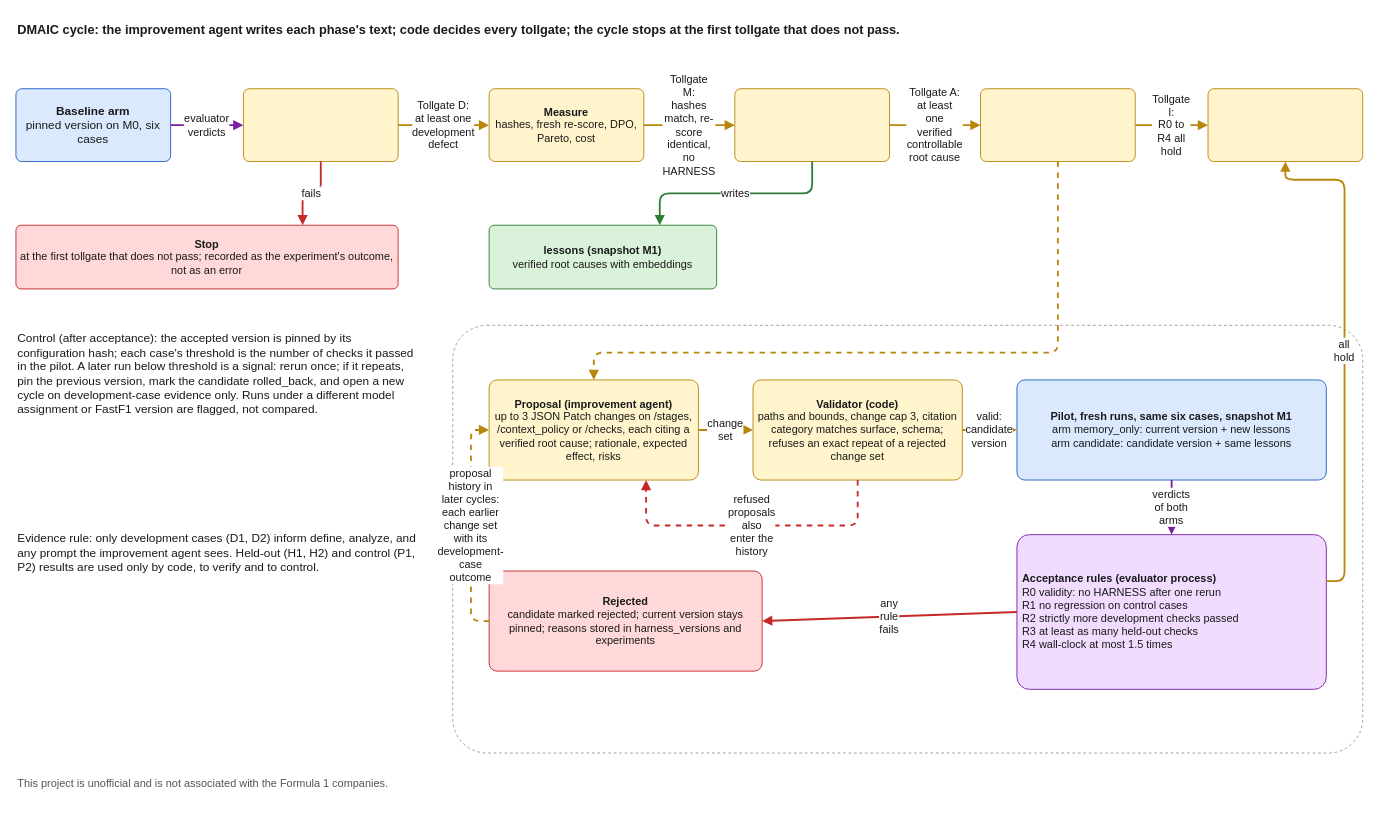
The diagram is 1379 pixels wide and 814 high, and some of its shapes have lost their labels. Here are the shapes that lost their labels. From the top down, the box of each, then its label:
(243, 88, 398, 162): Define charter from development cases; problem statement
(734, 88, 890, 162): Analyze root causes with why-chains, verified against events
(980, 88, 1135, 162): Improve proposal, validator, pilot, R0 to R4
(1207, 88, 1363, 162): Control pin, control plan, optional confirmation
(452, 324, 1363, 753): Improve phase in detail
